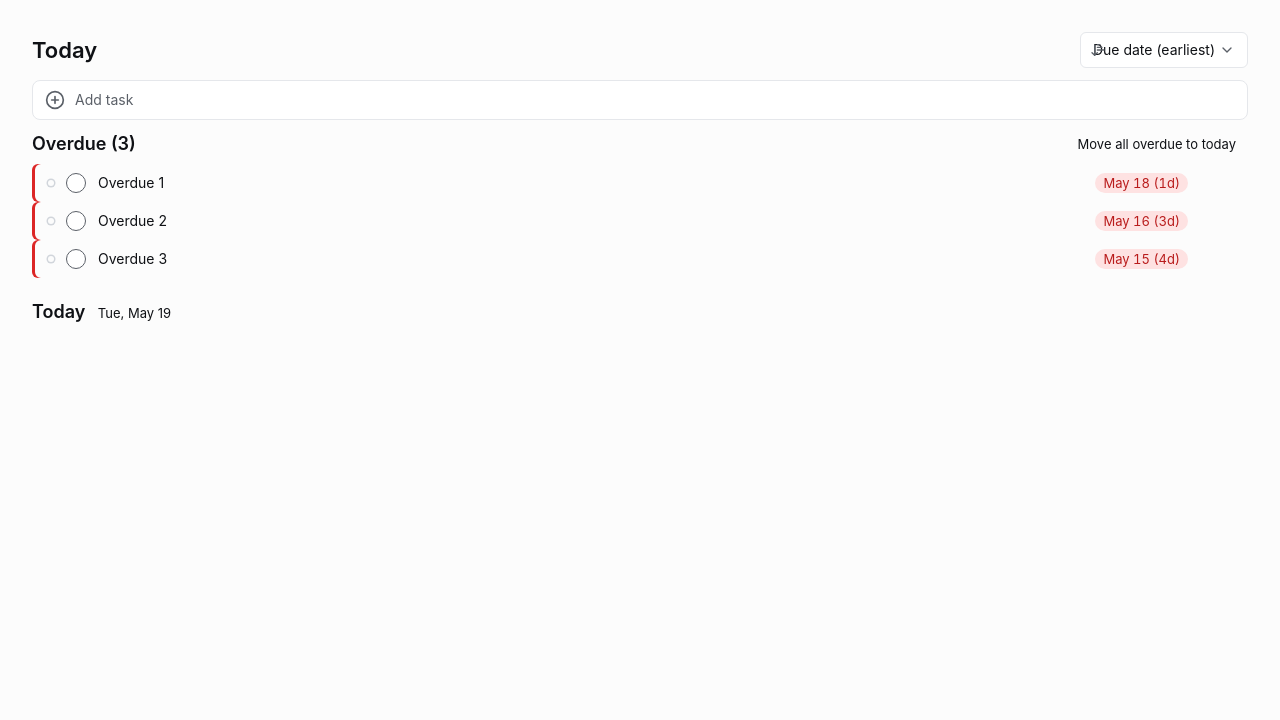
it: TodayView — Move all overdue to today › clicking "Move all overdue to today" opens confirmation (microcopy §6.6)
What coordinates should you click on to do the following:
click the button "Move all overdue to today"
I would click on:
 (1157, 144)
Its box is [1066,132,1248,156].
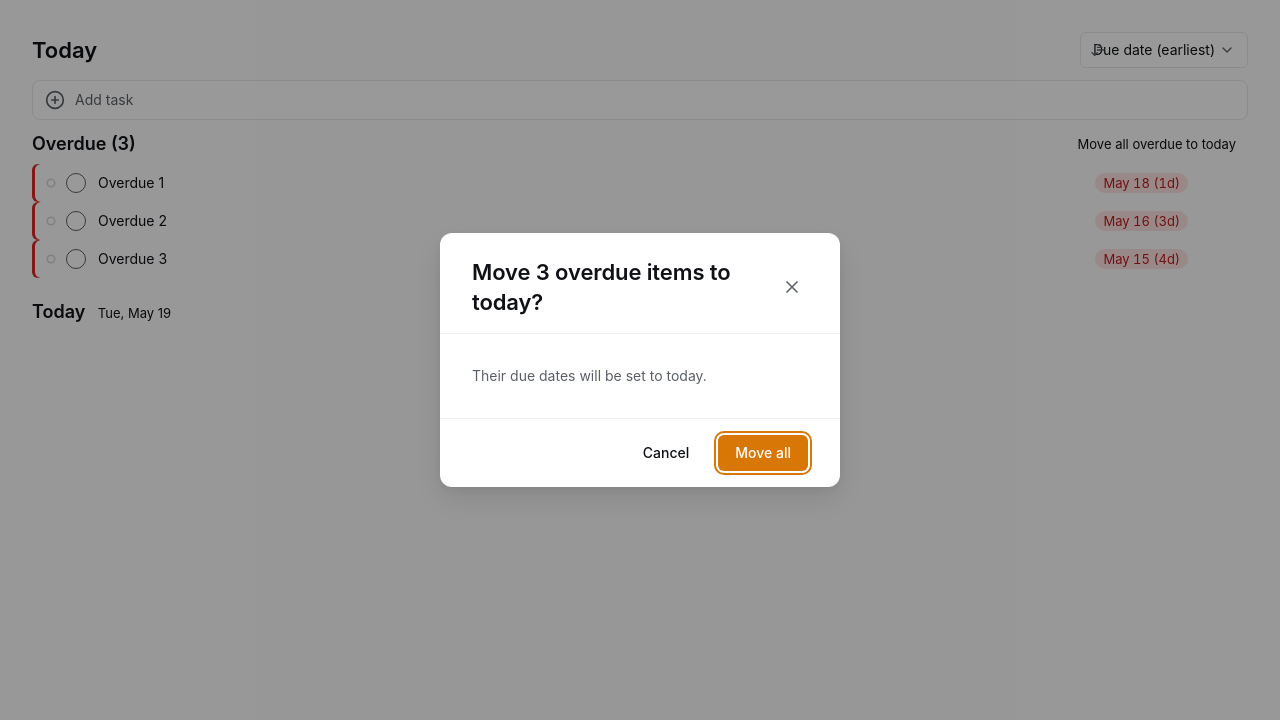
Expected: the heading "Move 3 overdue items to today?" is shown, [472,257,776,317]
Expected: the text "Their due dates will be set to today." is shown, [472,367,707,384]
